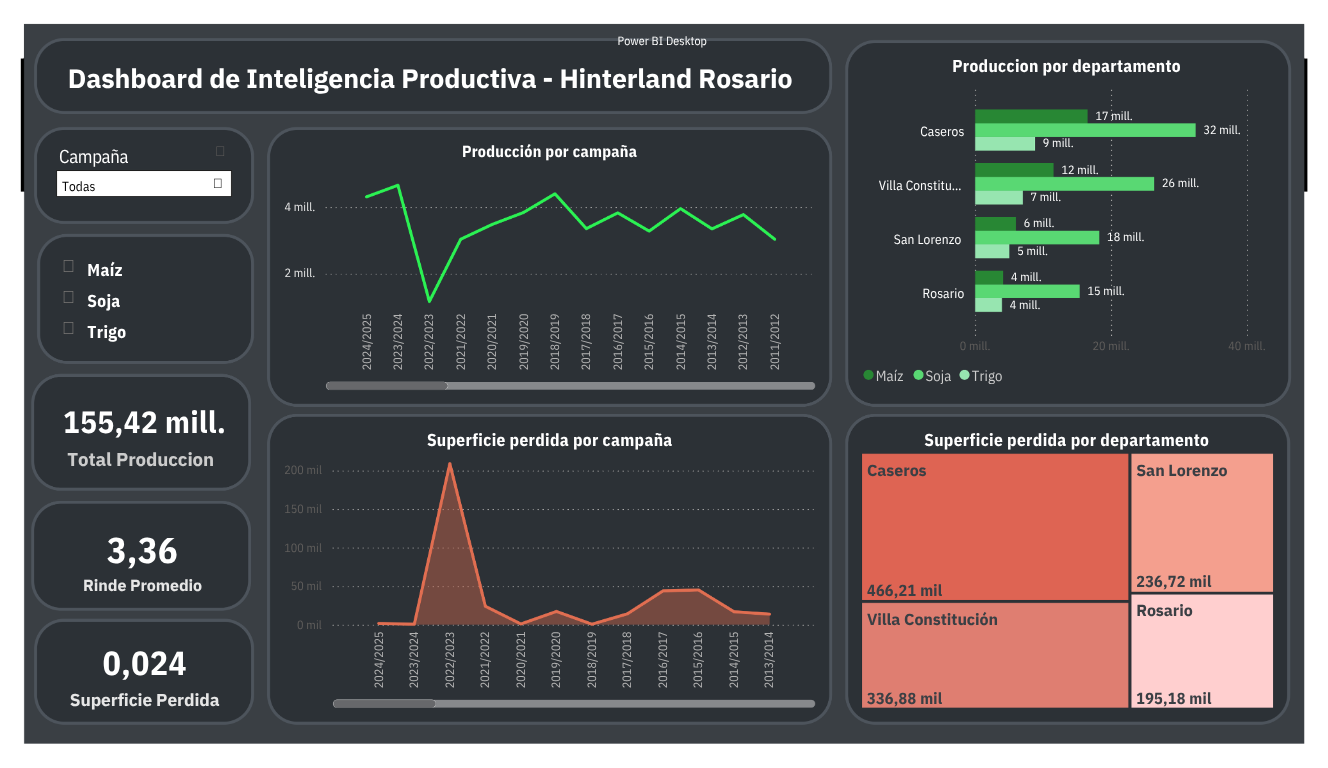

Layout of this report page (visuals, bound fields, positions):
{"tool":"powerbi","page":{"name":"Página 1","canvas":[1280,720],"ordinal":0},"visuals":[{"type":"card","fields":{"Values":["vw_Consumo_PowerBI.Total Produccion"]},"box":[7.2,349.9,219.8,117.1],"z":0},{"type":"card","fields":{"Values":["vw_Consumo_PowerBI.Rinde Promedio"]},"box":[7.2,477.1,219.8,115.7],"z":1000},{"type":"card","fields":{"Values":["vw_Consumo_PowerBI.Superficie Perdida"]},"box":[10.1,602.9,219.8,98.3],"z":2000},{"type":"lineChart","title":"Producción por campaña","fields":{"Category":["vw_Consumo_PowerBI.campaña"],"Y":["Sum(vw_Consumo_PowerBI.produccion_toneladas)"]},"box":[242.9,102.7,565.3,280.5],"z":3000},{"type":"clusteredBarChart","title":"Produccion por departamento","fields":{"Category":["vw_Consumo_PowerBI.departamento_nombre"],"Y":["Sum(vw_Consumo_PowerBI.produccion_toneladas)"],"Series":["vw_Consumo_PowerBI.Cultivo_Limpio"]},"box":[821.2,15.9,445.3,367.2],"z":4000},{"type":"areaChart","title":"Superficie perdida por campaña","fields":{"Category":["vw_Consumo_PowerBI.campaña"],"Y":["Sum(vw_Consumo_PowerBI.superficie_perdida_ha)"]},"box":[242.9,390.4,565.3,310.8],"z":5000},{"type":"slicer","fields":{"Values":["vw_Consumo_PowerBI.campaña"]},"box":[10.1,102.7,219.8,96.9],"z":6000},{"type":"slicer","title":"Super","fields":{"Values":["vw_Consumo_PowerBI.Cultivo_Limpio"]},"box":[13,209.6,216.9,130.1],"z":7000},{"type":"textbox","box":[10.1,14.5,798.1,75.2],"z":8000},{"type":"treemap","title":"Superficie perdida por departamento","fields":{"Group":["vw_Consumo_PowerBI.departamento_nombre"],"Values":["Sum(vw_Consumo_PowerBI.superficie_perdida_ha)"]},"box":[821,390,445,311],"z":9000}]}

Visuals, with their boxes on the page's 1280x720 design canvas (x1, y1, x2, y2). These are canvas units, not pixel positions in the 1328x768 screenshot, which may show the page scaled, cropped or inside an application window:
card - vw_Consumo_PowerBI.Total Produccion: crop(7, 350, 227, 467)
card - vw_Consumo_PowerBI.Rinde Promedio: crop(7, 477, 227, 593)
card - vw_Consumo_PowerBI.Superficie Perdida: crop(10, 603, 230, 701)
"Producción por campaña" lineChart: crop(243, 103, 808, 383)
"Produccion por departamento" clusteredBarChart: crop(821, 16, 1266, 383)
"Superficie perdida por campaña" areaChart: crop(243, 390, 808, 701)
slicer - vw_Consumo_PowerBI.campaña: crop(10, 103, 230, 200)
"Super" slicer: crop(13, 210, 230, 340)
textbox: crop(10, 14, 808, 90)
"Superficie perdida por departamento" treemap: crop(821, 390, 1266, 701)
